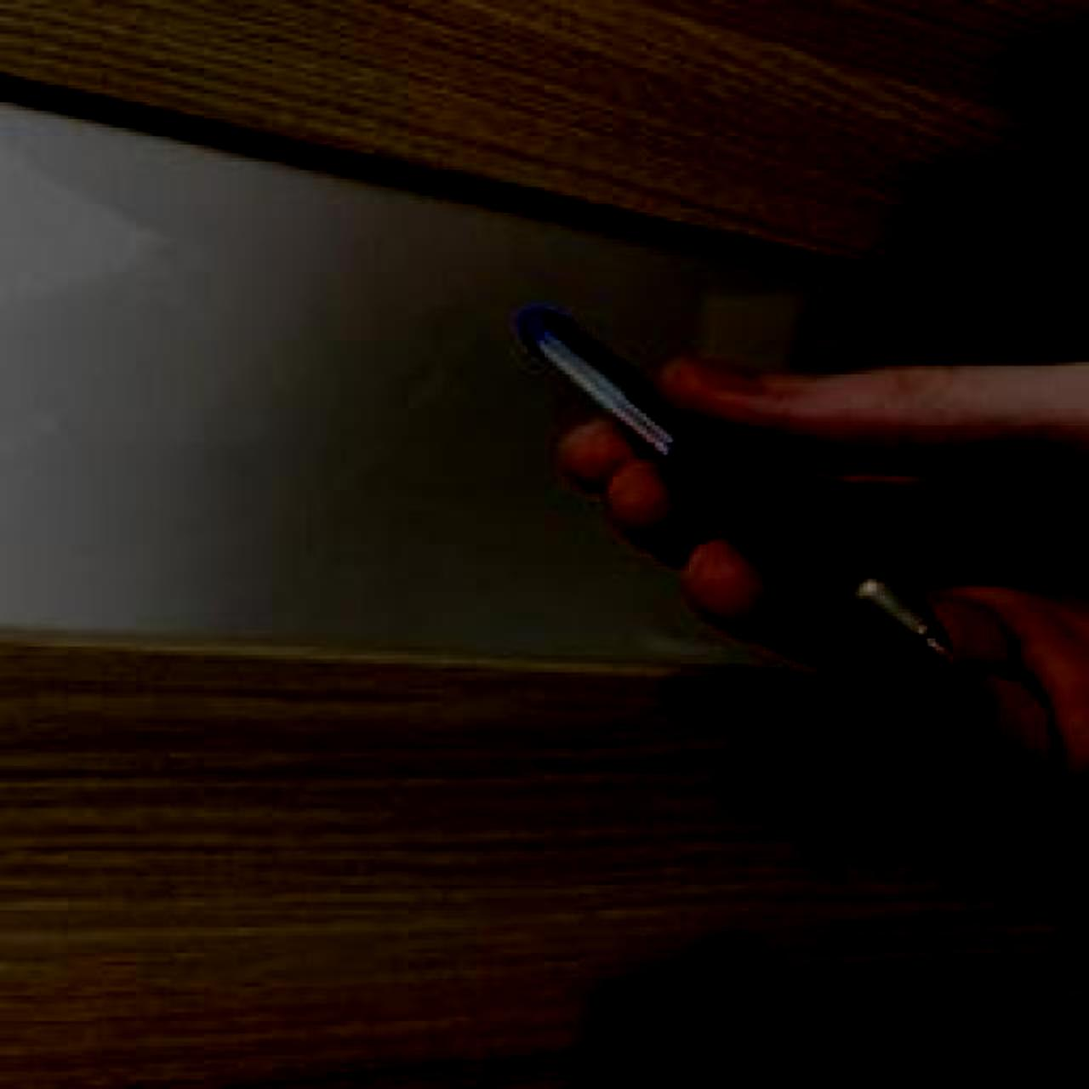pen: (519, 306, 953, 664)
